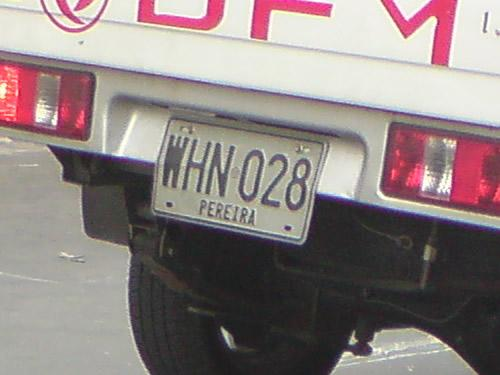placas: (148, 106, 332, 248)
